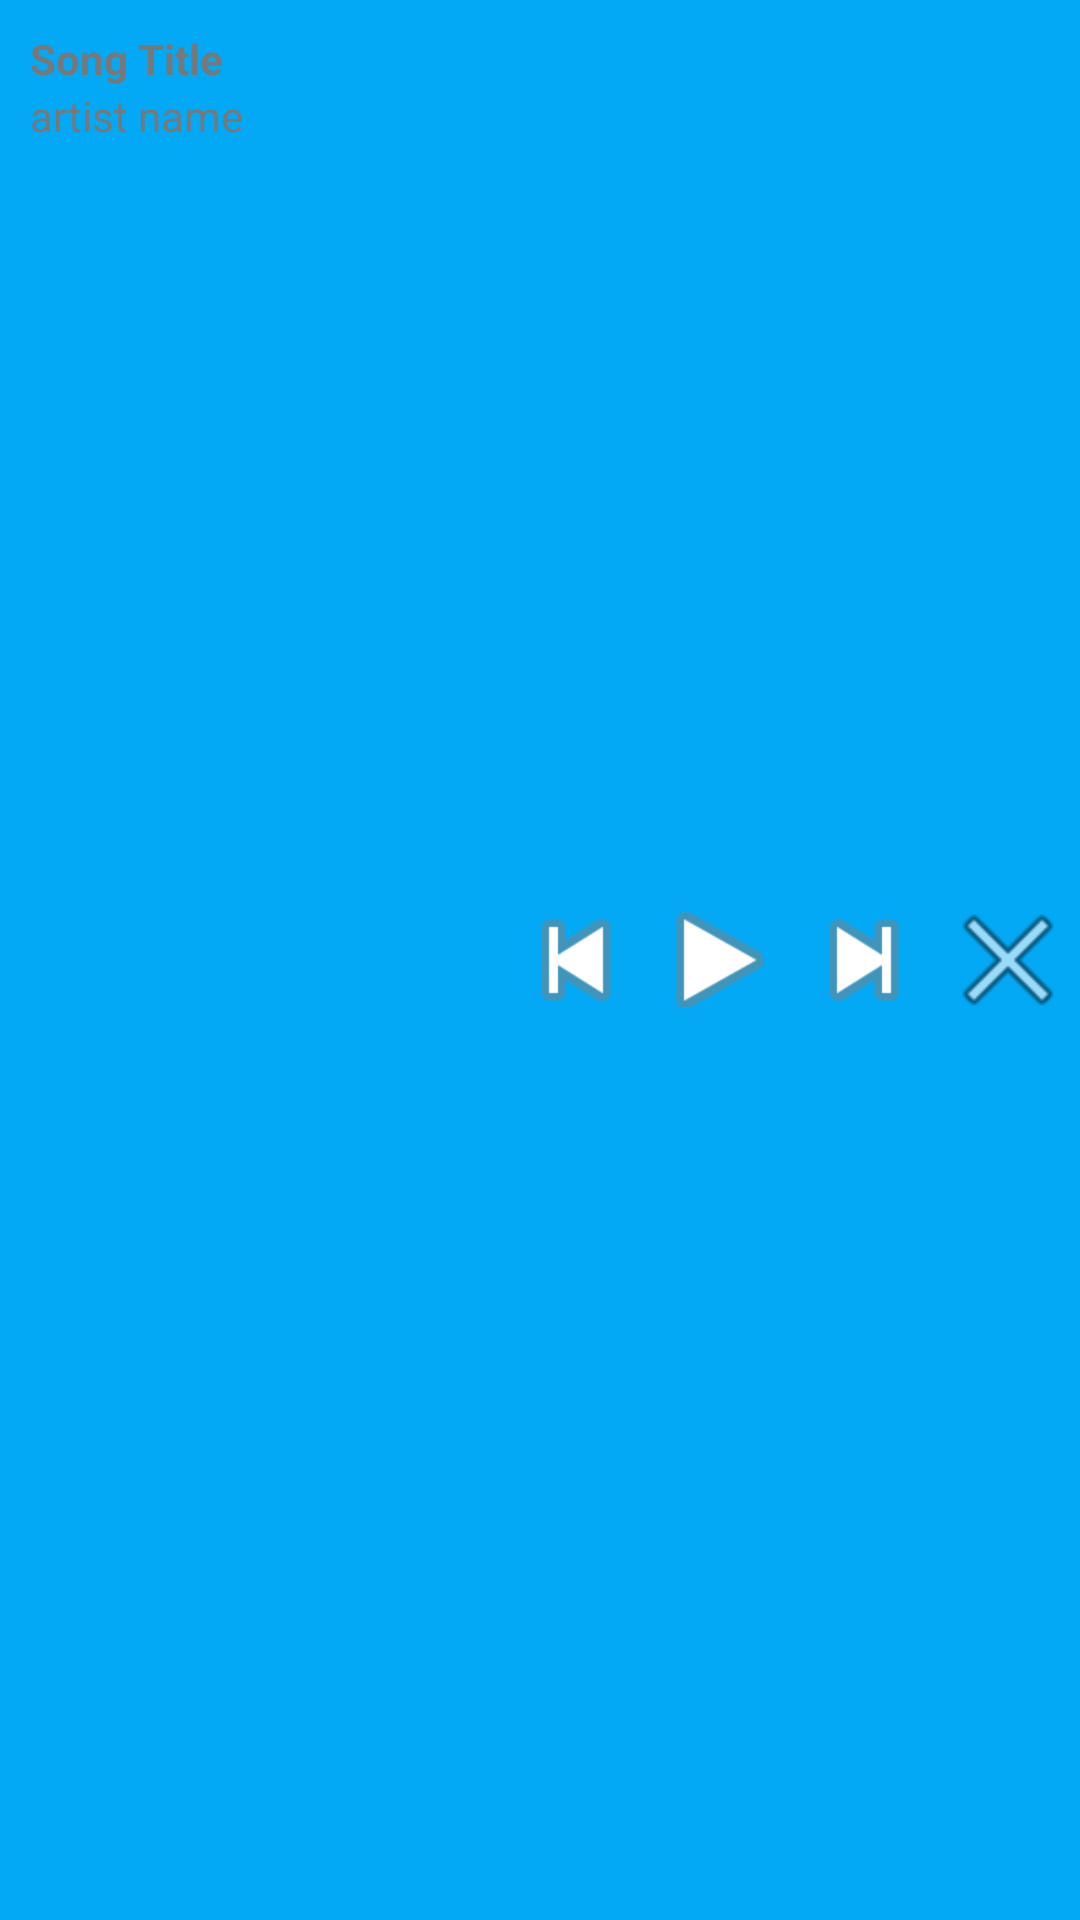

Screen size 1080 × 1920. Icon name, then its box in pixels as bbox=[x1, y1, x2, y2]:
close clear cancel: bbox=[963, 915, 1053, 1005]
next: bbox=[829, 919, 899, 1001]
play: bbox=[676, 912, 764, 1008]
previous: bbox=[541, 919, 611, 1001]
